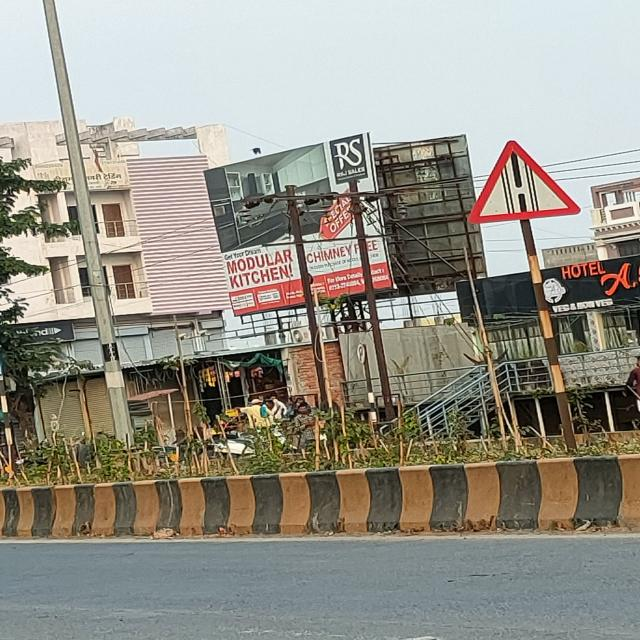GAP_IN_MEDIAN: (464, 144, 581, 225)
